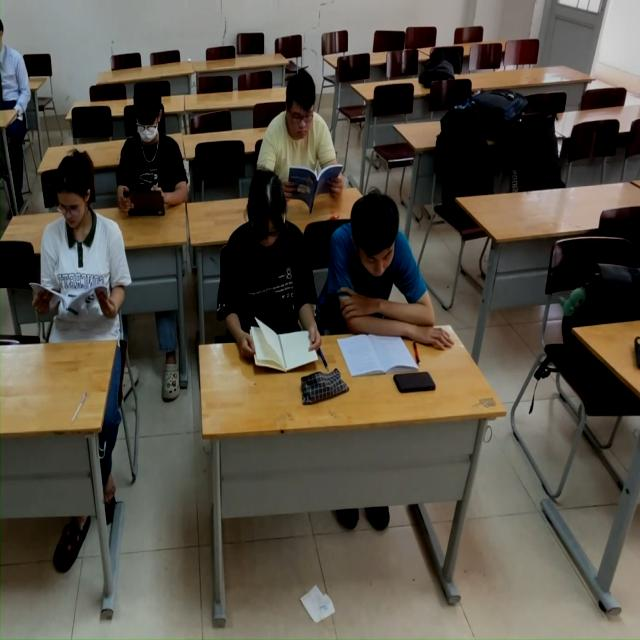read: (323, 188, 454, 383), (214, 165, 321, 384), (26, 145, 135, 350), (106, 72, 198, 230), (257, 64, 354, 211)
